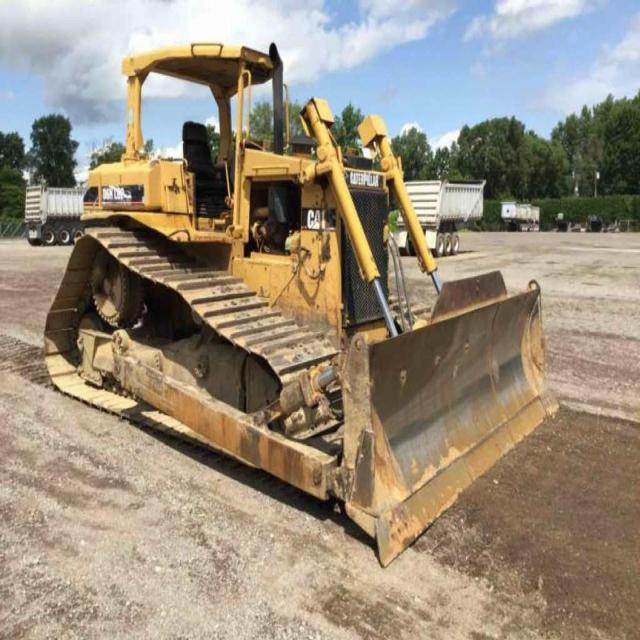buldozerpayloadergrader: (36, 30, 566, 574)
